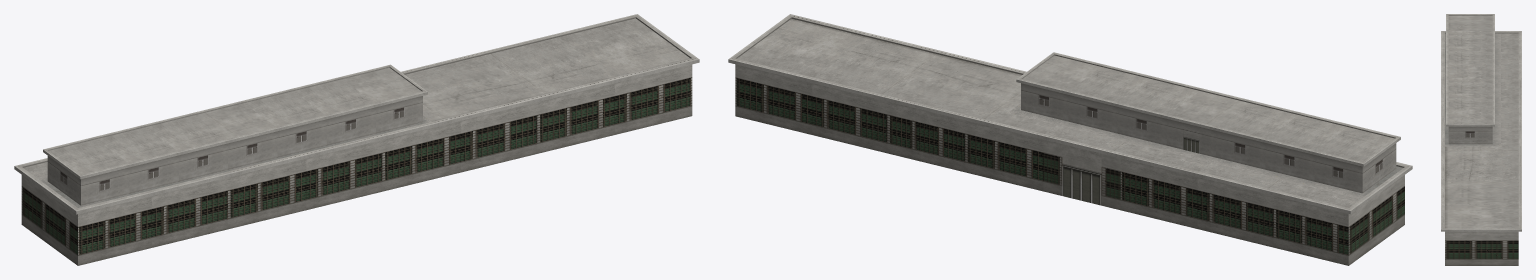
Rendered from workshop_06.obj.
3 renders of one model, left to right at view 1: azimuth 30°, elevation 25°; view 2: azimuth 150°, elevation 25°; view 3: azimuth 270°, elevation 25°, orthographic. The views are drawn at different scales.
Visible parts, largest first — view 1: Object206; view 2: Object206; view 3: Object206.
Part boxes in pixels (bbox=[...]): Object206: bbox=[14, 14, 699, 265]; Object206: bbox=[728, 14, 1412, 265]; Object206: bbox=[1441, 14, 1521, 265].
Bounding box in the file's own units: 187 × 25.18 × 32.22.
